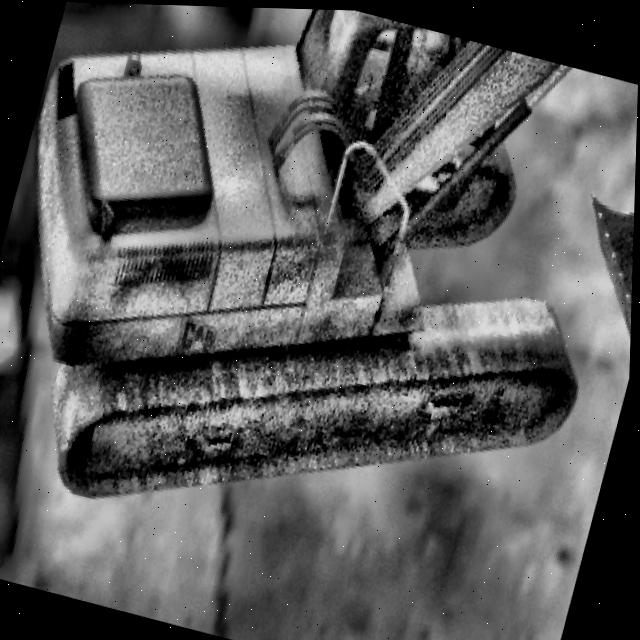excavator: (0, 0, 640, 617)
